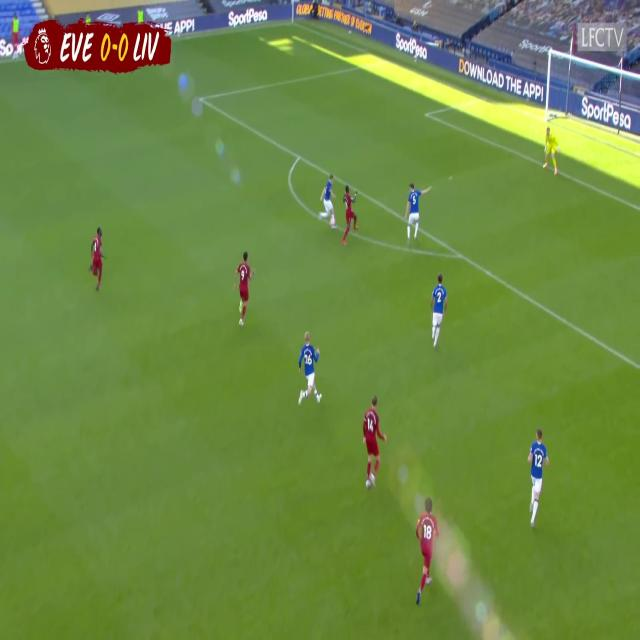ball: (330, 218, 336, 228)
team1: (410, 488, 440, 610), (358, 389, 384, 493), (233, 248, 254, 327), (86, 220, 106, 298), (343, 180, 359, 250)
team2: (521, 424, 549, 529), (296, 320, 324, 416), (404, 177, 434, 246), (428, 267, 450, 353), (320, 165, 335, 233)
